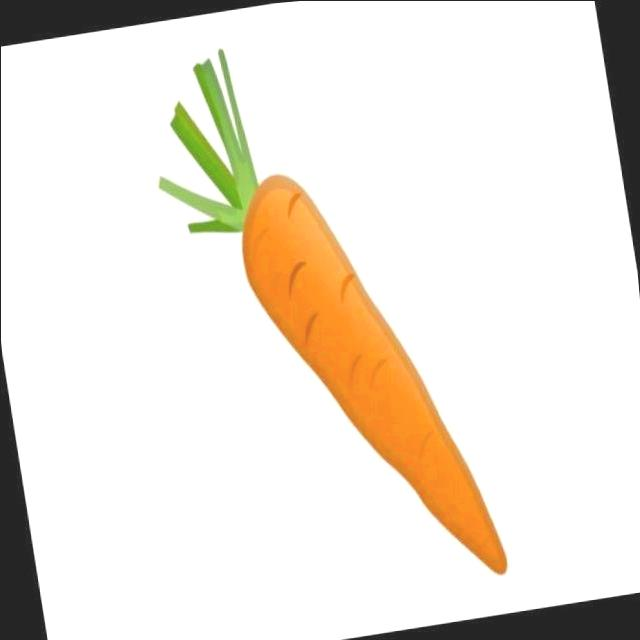carrot: (160, 62, 540, 616)
